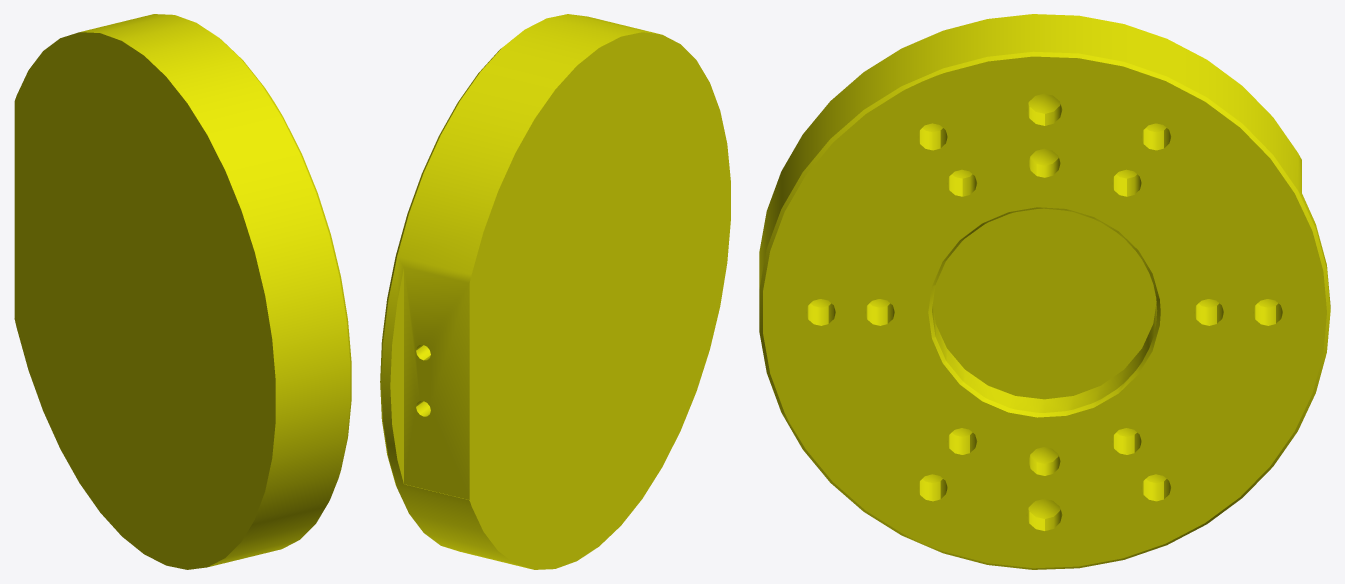
File: es165d_T_AXIS.dae
3 views of the same model, side by side, from view 1: azimuth 30°, elevation 25°; view 2: azimuth 150°, elevation 25°; view 3: azimuth 270°, elevation 25° (orthographic). The views are drawn at different scales.
Visible parts, largest first — view 1: node; view 2: node; view 3: node.
Boxes of the visible parts, bbox=[...] form: node: bbox=[14, 14, 351, 569]; node: bbox=[380, 14, 730, 569]; node: bbox=[759, 14, 1330, 569].
Bounding box in the file's own units: 0.026 × 0.1597 × 0.1599.
